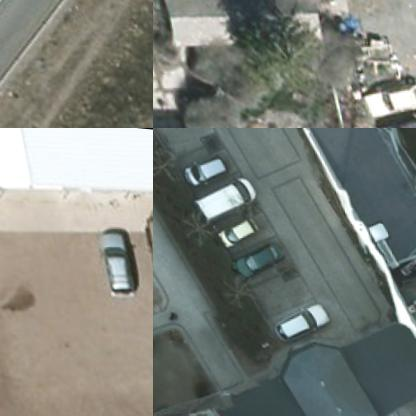car: (90, 218, 132, 296), (348, 69, 415, 116), (263, 294, 328, 342), (225, 232, 286, 274), (176, 146, 226, 188), (206, 207, 256, 244), (360, 99, 415, 127)
van: (182, 166, 256, 226)
